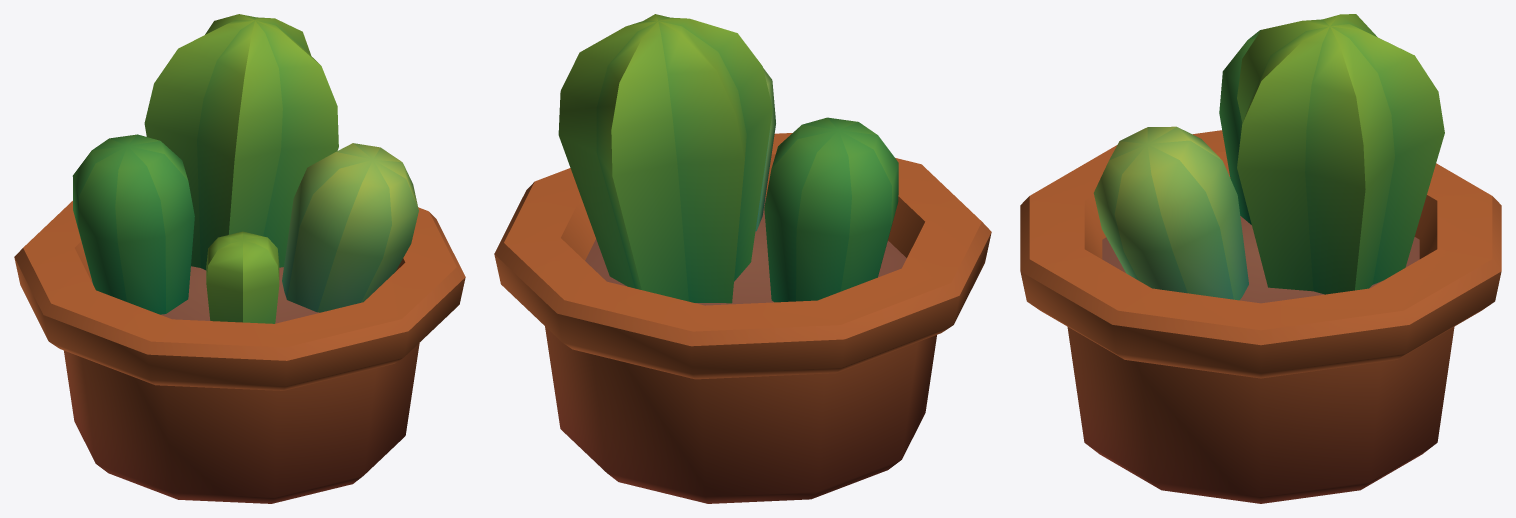
Rendered from K_cactus_medium_A.glb.
The picture shows the model from 3 angles, left to right: view 1: azimuth 30°, elevation 25°; view 2: azimuth 150°, elevation 25°; view 3: azimuth 270°, elevation 25°; orthographic projection. The views are drawn at different scales.
Visible parts, largest first — view 1: cactus_medium_A; view 2: cactus_medium_A; view 3: cactus_medium_A.
Part boxes in pixels (x1,y1,x2,y2): cactus_medium_A: (14, 14, 465, 503); cactus_medium_A: (494, 14, 991, 503); cactus_medium_A: (1020, 14, 1501, 503).
Bounding box in the file's own units: 0.8799 × 0.8272 × 0.8368.
